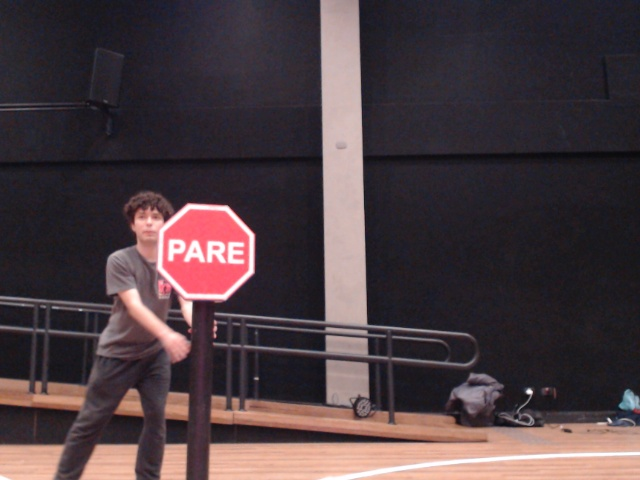SEMAFORO: (144, 192, 285, 322)
